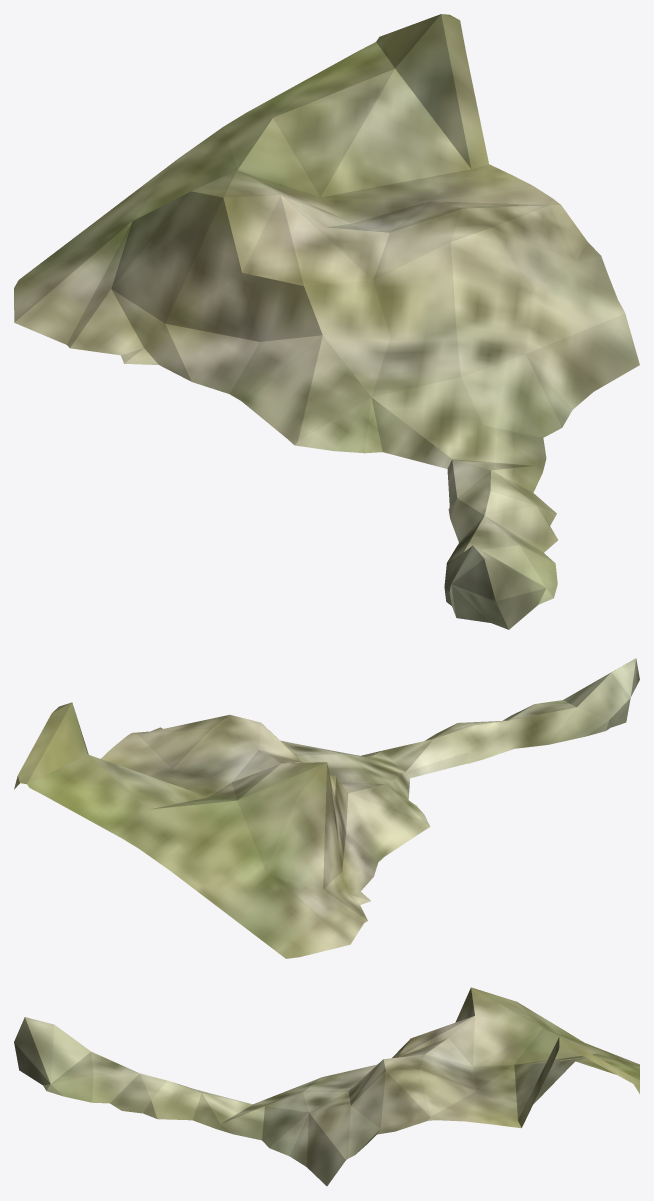
The picture shows the model from 3 angles, top to bottom: view 1: azimuth 30°, elevation 25°; view 2: azimuth 150°, elevation 25°; view 3: azimuth 270°, elevation 25°; orthographic projection. The views are drawn at different scales.
Size of the model in its own units: 1.16 by 0.5823 by 2.29.
1 material, 1 textured.
